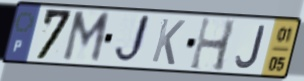7: (35, 8, 75, 63)
H: (187, 15, 239, 74)
J: (112, 13, 153, 67), (234, 24, 267, 70)
K: (149, 16, 188, 67)
M: (60, 10, 113, 65)
